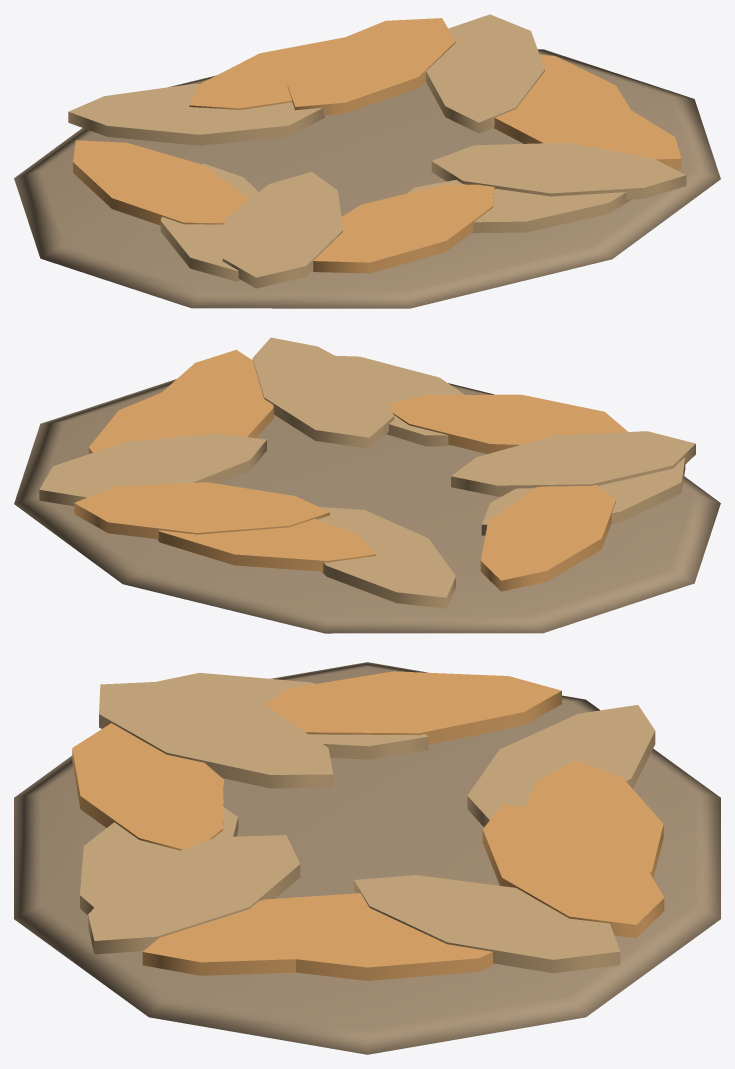
File: reptiles-amphibians-and-minibeasts-leaf-litter-patch-1c3fe6c3__22467.glb
3 renders of one model, top to bottom at view 1: azimuth 30°, elevation 25°; view 2: azimuth 150°, elevation 25°; view 3: azimuth 270°, elevation 25°, orthographic. The views are drawn at different scales.
Visible parts, largest first — view 1: leaf-litter-patch; view 2: leaf-litter-patch; view 3: leaf-litter-patch.
Part boxes in pixels (left/top/right/bottom): leaf-litter-patch: left=14, top=14, right=720, bottom=308; leaf-litter-patch: left=14, top=337, right=720, bottom=633; leaf-litter-patch: left=14, top=662, right=720, bottom=1054.
Bounding box in the file's own units: 0.5257 × 0.0432 × 0.4.
